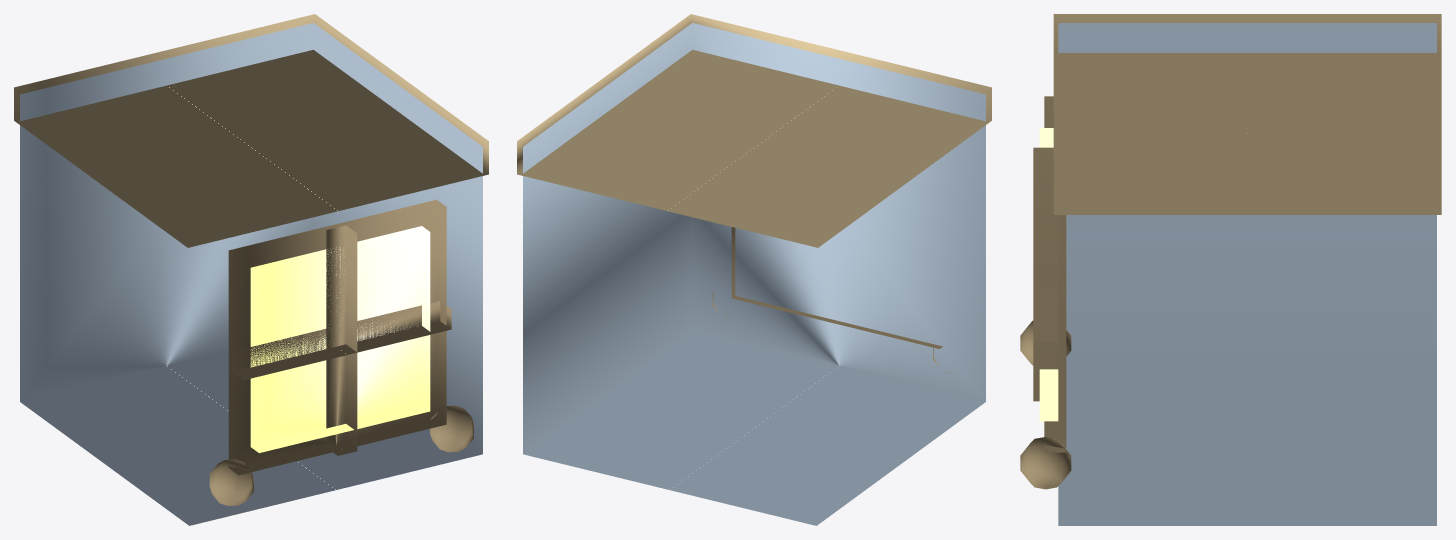
Rendered from block_window.glb.
The picture shows the model from 3 angles, left to right: view 1: azimuth 30°, elevation 25°; view 2: azimuth 150°, elevation 25°; view 3: azimuth 270°, elevation 25°; orthographic projection. The views are drawn at different scales.
Size of the model in its own units: 24.6 by 24.5 by 26.72.
